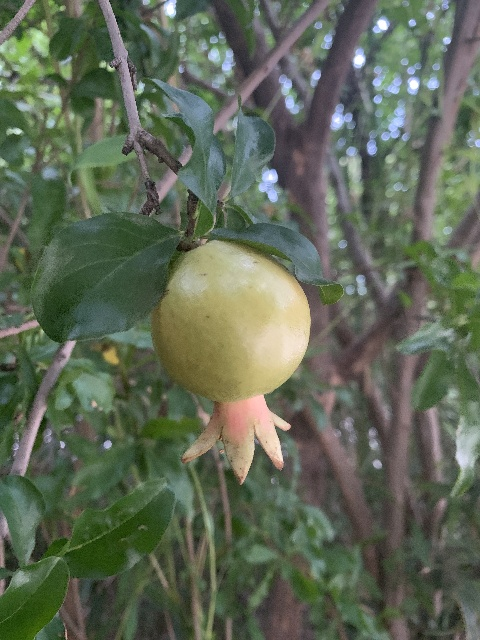mid-growth: (149, 241, 310, 485)
